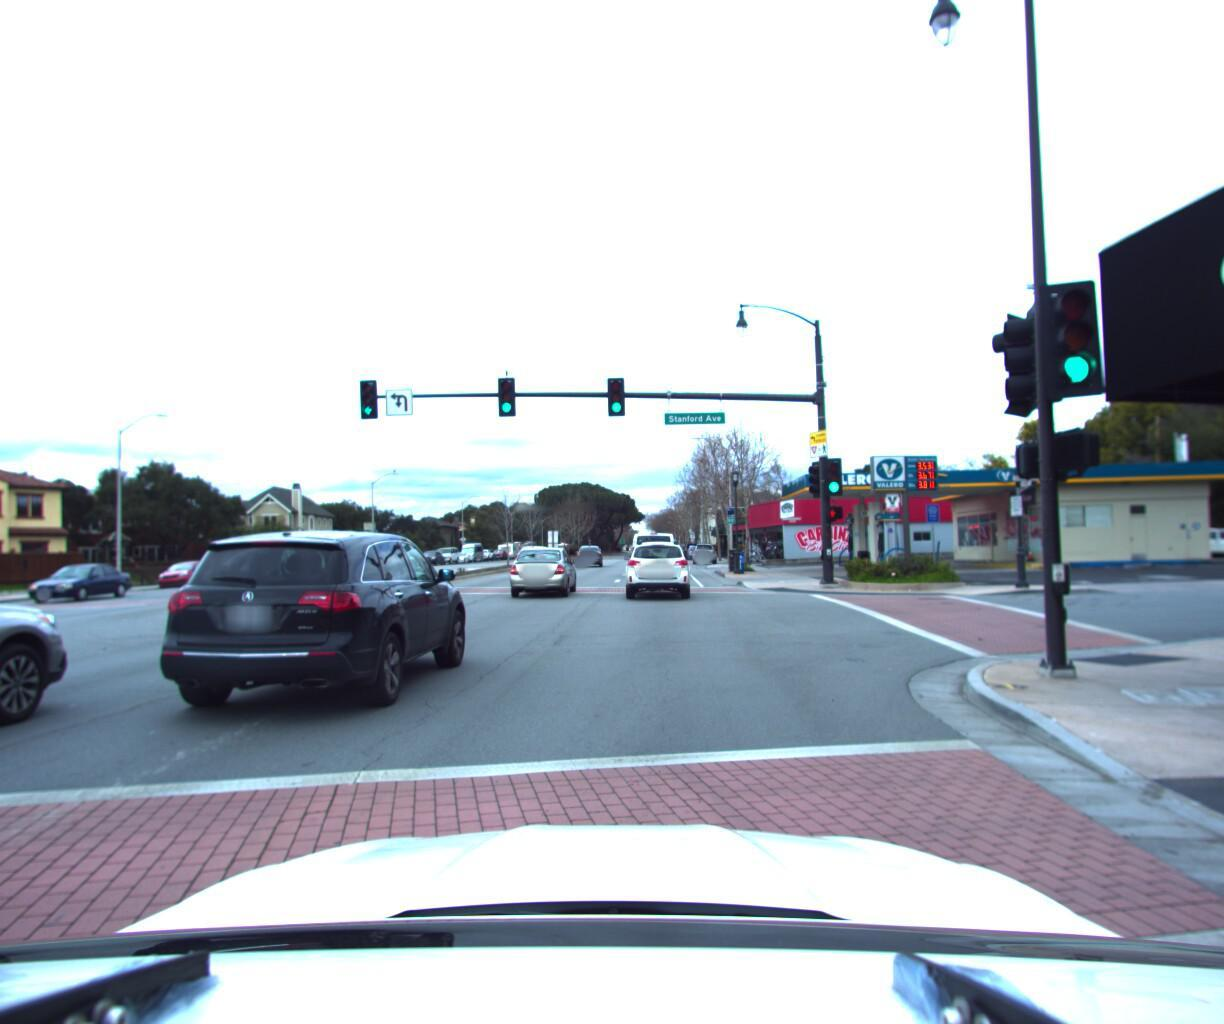bicycle: (748, 548, 764, 565)
car: (142, 501, 484, 716), (0, 509, 104, 880), (26, 563, 146, 606), (619, 535, 691, 601), (506, 544, 582, 599), (1146, 524, 1224, 561), (629, 531, 676, 582), (155, 561, 228, 590), (574, 545, 606, 570), (692, 541, 719, 565)
other_vehicle: (257, 531, 346, 581)
